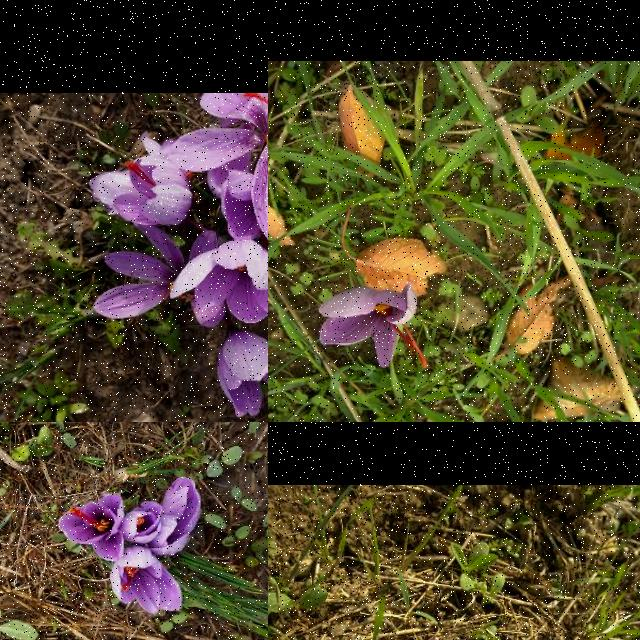flower: (167, 93, 268, 249), (318, 285, 428, 369), (170, 239, 268, 326), (113, 156, 193, 227), (109, 546, 183, 616), (217, 329, 268, 418), (59, 492, 124, 560), (150, 477, 202, 557), (122, 502, 164, 544)
overlap: (89, 93, 268, 321)
